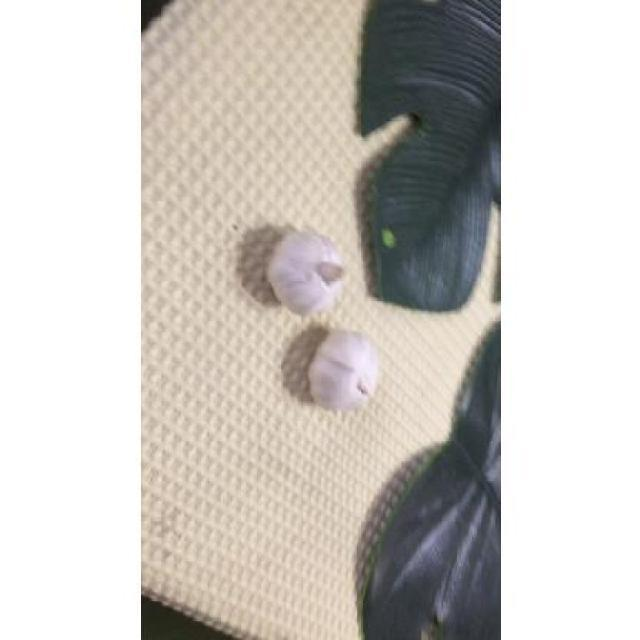garlic: (268, 231, 344, 314), (309, 330, 379, 409)
